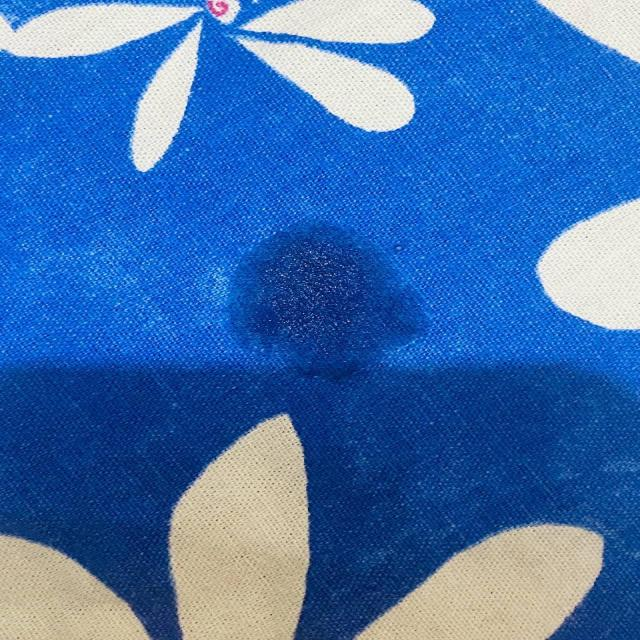stain: (223, 215, 427, 392)
